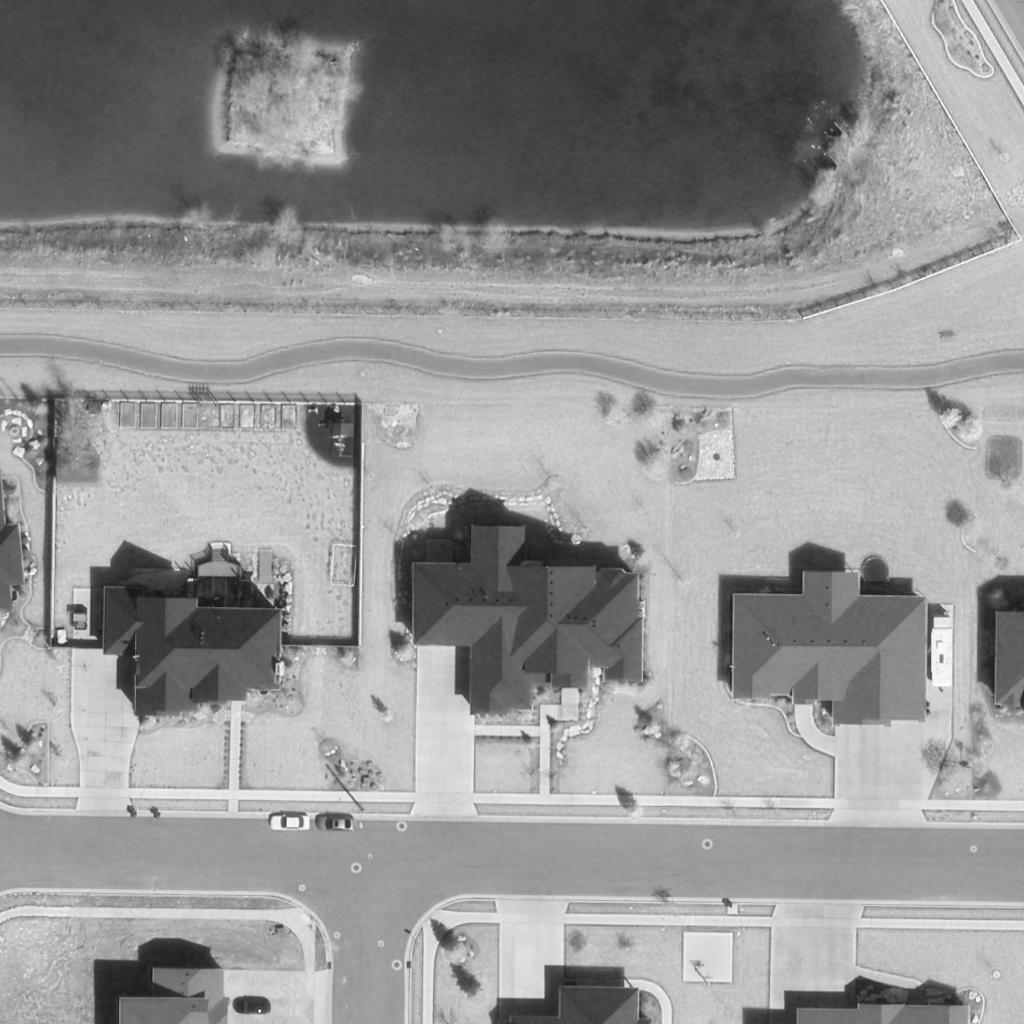vehicle: (928, 615, 954, 693), (269, 815, 311, 831), (316, 816, 356, 832), (235, 999, 271, 1015)
